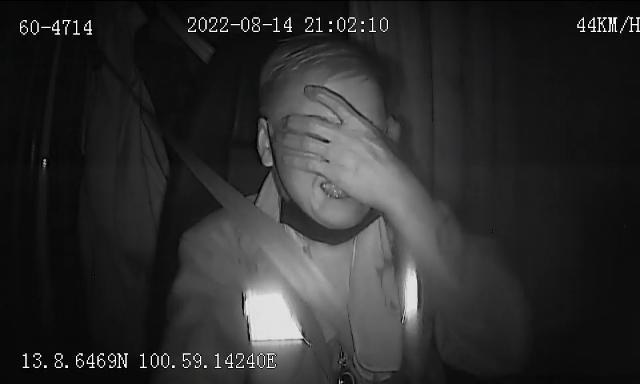Seatbelt: (174, 145, 350, 321)
